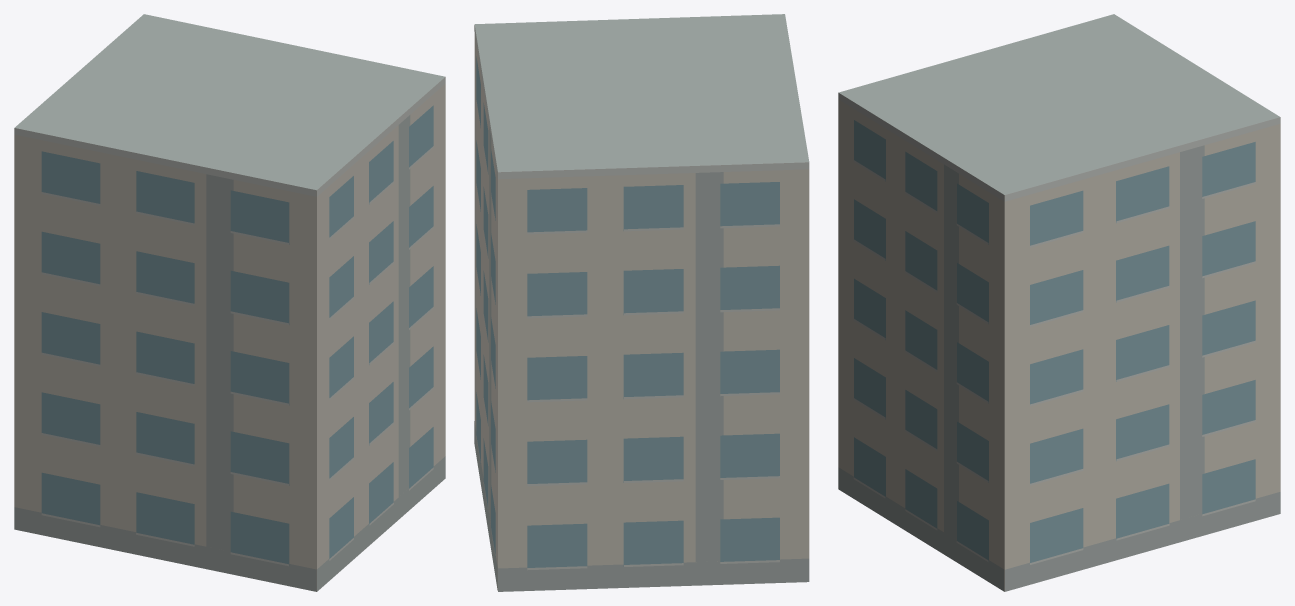
The model's file is survey-upis-33037020.glb.
3 renders of one model, left to right at view 1: azimuth 30°, elevation 25°; view 2: azimuth 150°, elevation 25°; view 3: azimuth 270°, elevation 25°, orthographic. The views are drawn at different scales.
Parts seen in each view (by area): view 1: survey-upis-33037020.tmp; view 2: survey-upis-33037020.tmp; view 3: survey-upis-33037020.tmp.
Part boxes in pixels (box(x1,y1,x2,y2)): survey-upis-33037020.tmp: box(14, 14, 445, 591); survey-upis-33037020.tmp: box(474, 14, 809, 591); survey-upis-33037020.tmp: box(838, 14, 1280, 591).
Size of the model in its own units: 14.31 by 14.6 by 14.76.
